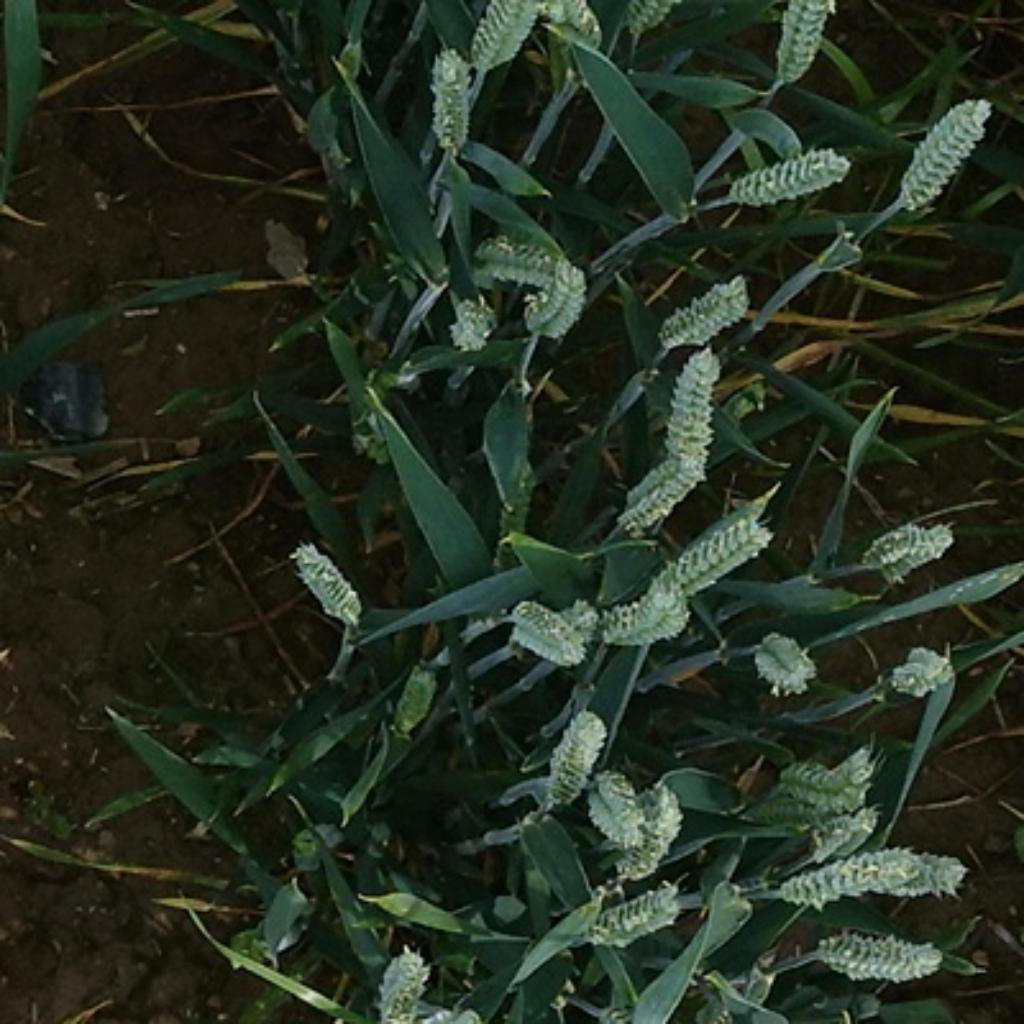0-0: (652, 501, 783, 601), (463, 217, 593, 314), (650, 345, 729, 478), (616, 417, 709, 529), (899, 98, 994, 207), (645, 263, 760, 350), (760, 842, 913, 903), (773, 750, 888, 827), (812, 926, 954, 985), (855, 506, 962, 581), (604, 560, 696, 647), (731, 148, 860, 209), (608, 783, 687, 882), (417, 38, 481, 158), (501, 591, 601, 665), (514, 263, 593, 348), (291, 537, 368, 622), (782, 749, 877, 813), (544, 707, 611, 796), (467, 1, 543, 77), (596, 885, 683, 951), (583, 768, 652, 849), (826, 857, 967, 896), (780, 0, 841, 89), (377, 945, 431, 1023), (751, 629, 813, 696), (535, 0, 612, 49), (806, 811, 880, 855), (440, 296, 499, 350), (891, 646, 952, 698)
